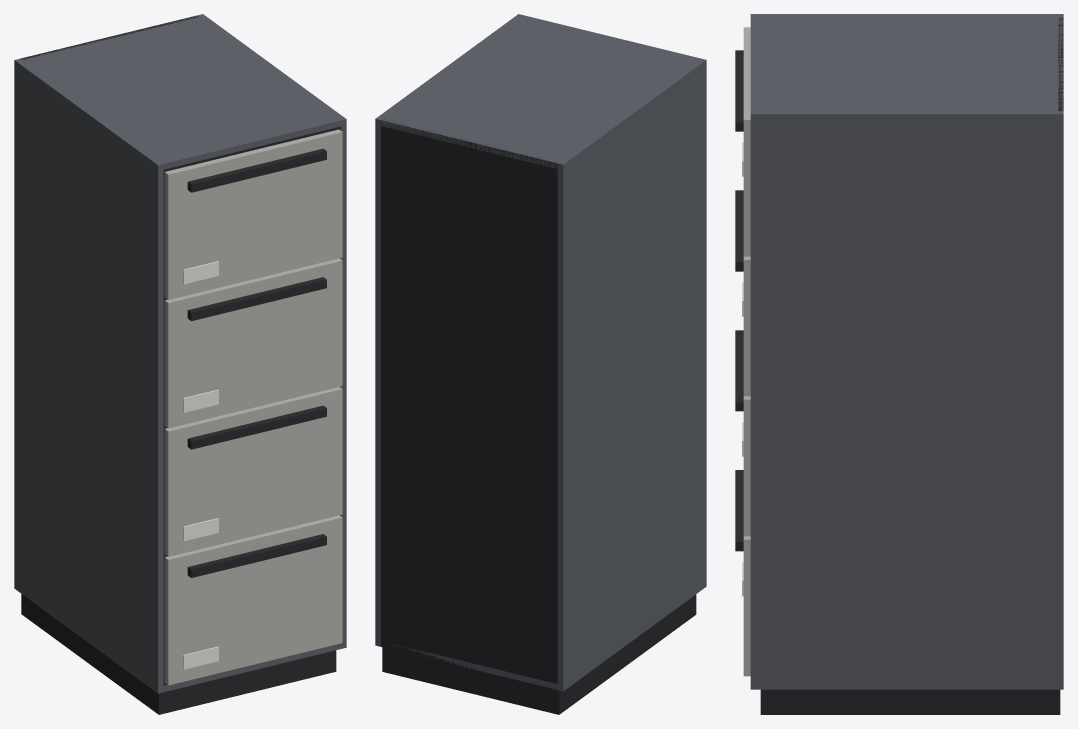
Rendered from FN_Cabinet_Filing.obj.
3 renders of one model, left to right at view 1: azimuth 30°, elevation 25°; view 2: azimuth 150°, elevation 25°; view 3: azimuth 270°, elevation 25°, orthographic. The views are drawn at different scales.
Parts seen in each view (by area): view 1: FN_Cabinet_Filing; view 2: FN_Cabinet_Filing; view 3: FN_Cabinet_Filing.
Boxes of the visible parts, <box> form: FN_Cabinet_Filing: <box>14,14,346,714</box>; FN_Cabinet_Filing: <box>375,14,706,714</box>; FN_Cabinet_Filing: <box>735,14,1063,714</box>.
Size of the model in its own units: 0.47 by 1.32 by 0.65.
1 material, 1 textured.
